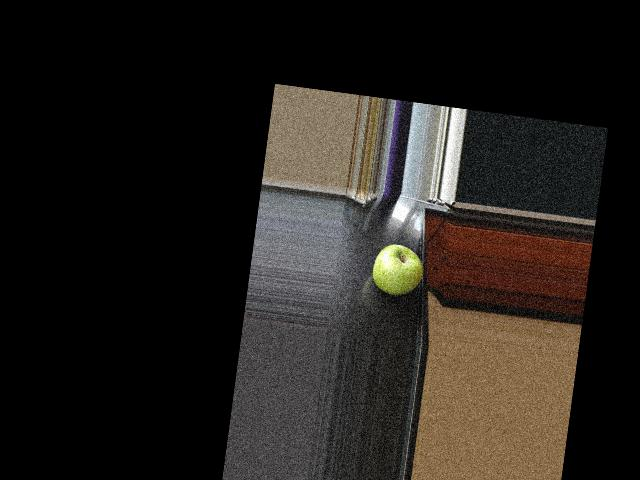apple: (366, 238, 427, 301)
